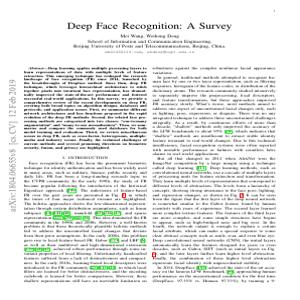text: (151, 64, 281, 286), (22, 65, 150, 287), (66, 20, 237, 57)
